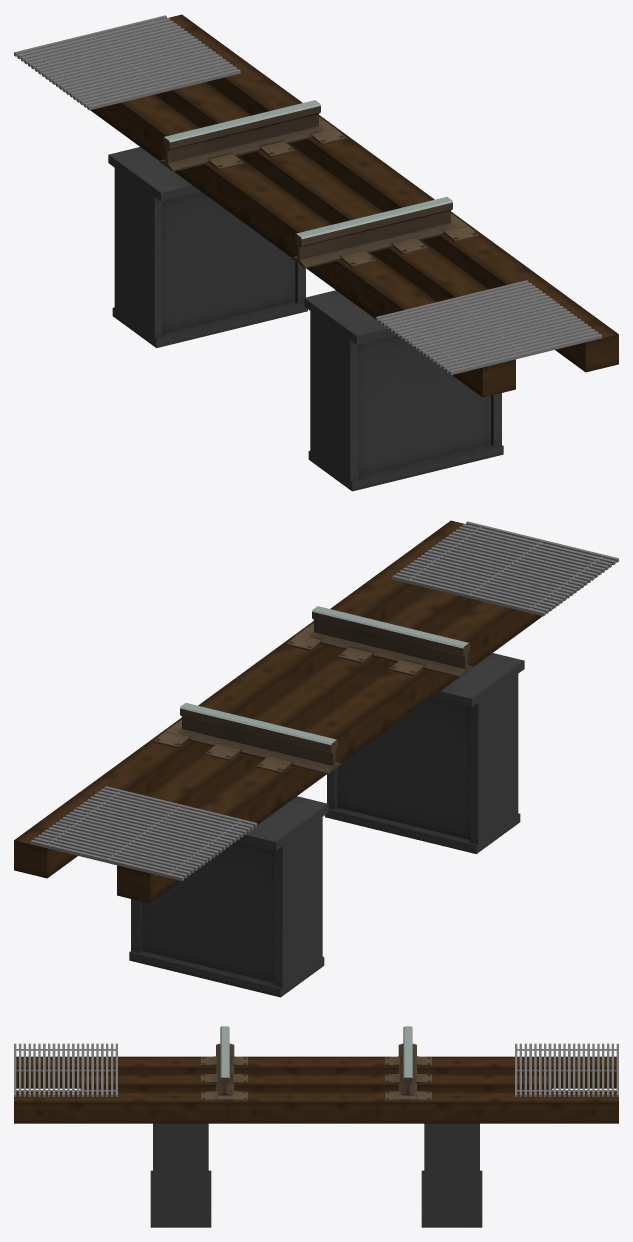
The model's file is spsf_tracks_bridge3.obj.
The picture shows the model from 3 angles, top to bottom: view 1: azimuth 30°, elevation 25°; view 2: azimuth 150°, elevation 25°; view 3: azimuth 270°, elevation 25°; orthographic projection. The views are drawn at different scales.
Parts seen in each view (by area): view 1: RAIL_BASE.004_Cube, RAIL_BASE.003_RAIL_BASE.006, RAIL_BASE_Cube.007, RAIL_LEFT_Cube.002, RAIL_RIGHT_Cube.010, RAIL_BASE.005_Cube.003; view 2: RAIL_BASE.004_Cube, RAIL_BASE.003_RAIL_BASE.006, RAIL_BASE_Cube.007, RAIL_RIGHT_Cube.010, RAIL_LEFT_Cube.002, RAIL_BASE.005_Cube.003; view 3: RAIL_BASE.003_RAIL_BASE.006, RAIL_BASE.004_Cube, RAIL_BASE_Cube.007, RAIL_BASE.005_Cube.003, RAIL_LEFT_Cube.002, RAIL_RIGHT_Cube.010.
Boxes of the visible parts, x1,y1,x2,y2 form: RAIL_BASE.004_Cube: (108, 147, 503, 491); RAIL_BASE.003_RAIL_BASE.006: (48, 14, 618, 397); RAIL_BASE_Cube.007: (14, 15, 602, 374); RAIL_LEFT_Cube.002: (291, 197, 454, 268); RAIL_RIGHT_Cube.010: (159, 100, 322, 171); RAIL_BASE.005_Cube.003: (208, 117, 479, 267); RAIL_BASE.004_Cube: (129, 653, 524, 997); RAIL_BASE.003_RAIL_BASE.006: (14, 520, 584, 903); RAIL_BASE_Cube.007: (30, 521, 618, 880); RAIL_RIGHT_Cube.010: (178, 703, 341, 774); RAIL_LEFT_Cube.002: (310, 606, 473, 677); RAIL_BASE.005_Cube.003: (153, 623, 424, 773); RAIL_BASE.003_RAIL_BASE.006: (14, 1056, 618, 1123); RAIL_BASE.004_Cube: (150, 1123, 482, 1227); RAIL_BASE_Cube.007: (14, 1043, 618, 1096); RAIL_BASE.005_Cube.003: (201, 1056, 431, 1101); RAIL_LEFT_Cube.002: (216, 1026, 234, 1095); RAIL_RIGHT_Cube.010: (398, 1026, 416, 1095).
Size of the model in its own units: 1.11 by 1.37 by 5.
1 material, 1 textured.
